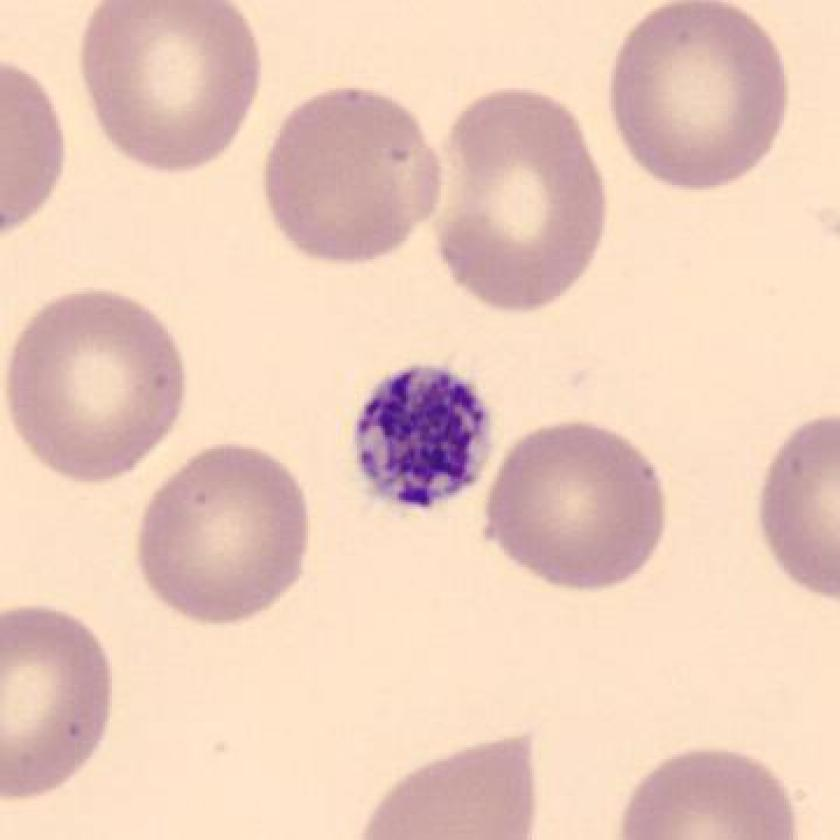platelets: (337, 353, 517, 526)
